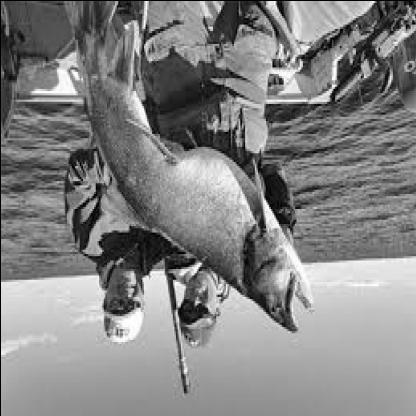fish: (60, 2, 318, 341)
